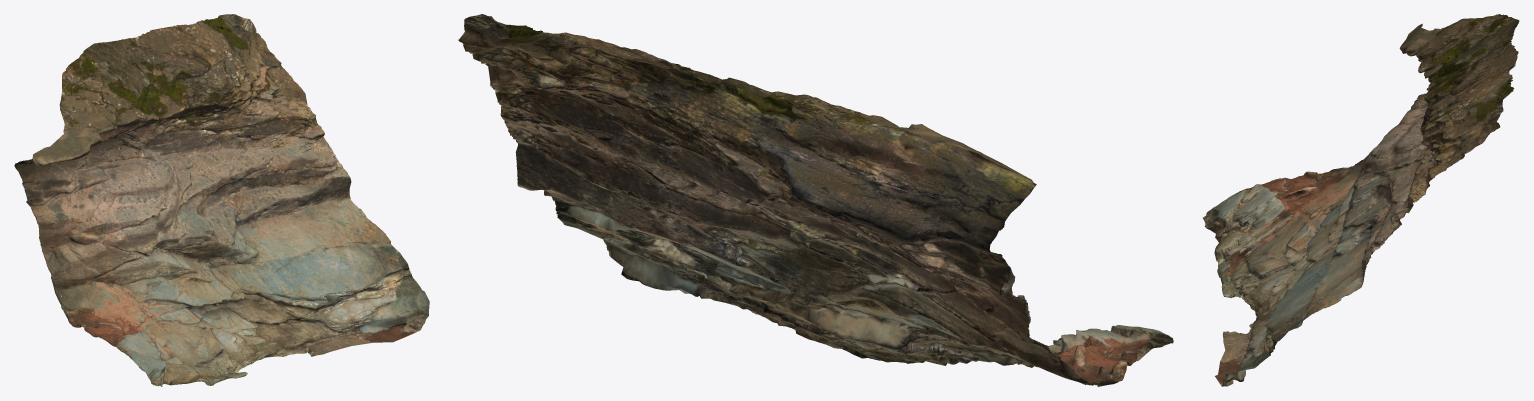
The picture shows the model from 3 angles, left to right: view 1: azimuth 30°, elevation 25°; view 2: azimuth 150°, elevation 25°; view 3: azimuth 270°, elevation 25°; orthographic projection. The views are drawn at different scales.
Parts seen in each view (by area): view 1: rock_face_01; view 2: rock_face_01; view 3: rock_face_01.
Part boxes in pixels (x1=…): rock_face_01: x1=14, y1=14, x2=429, y2=386; rock_face_01: x1=458, y1=14, x2=1173, y2=386; rock_face_01: x1=1202, y1=14, x2=1519, y2=386.
Bounding box in the file's own units: 4.95 × 3.56 × 3.83.
1 material, 1 textured.
